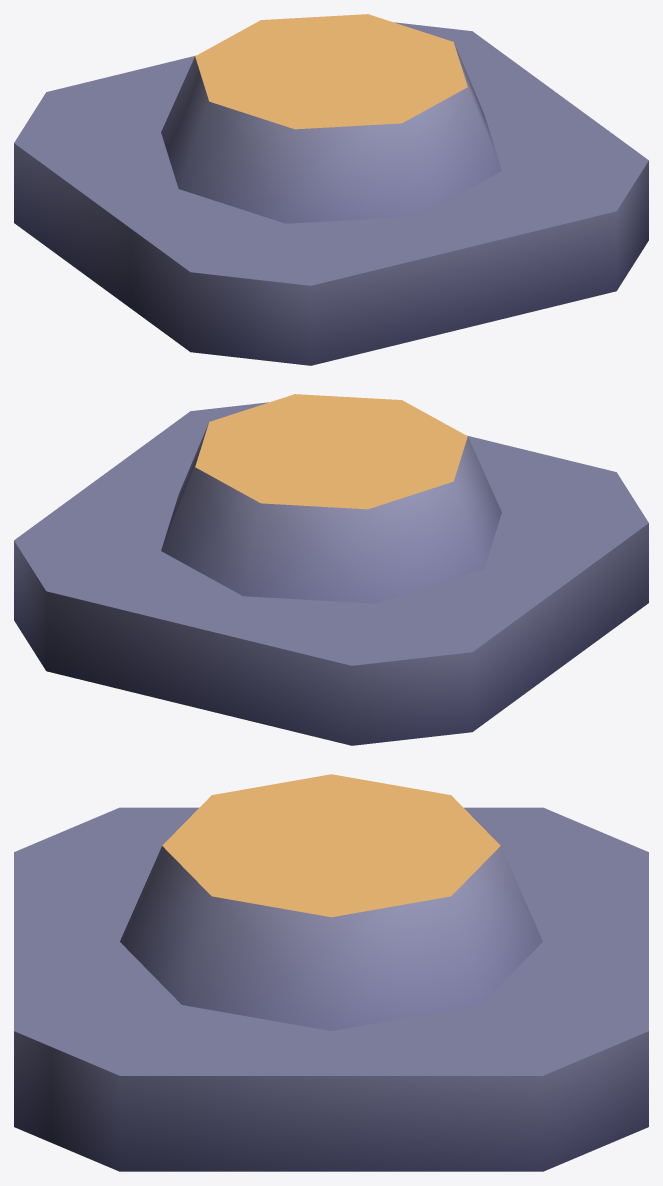
File: kenney-factory-button-floor-round-small.glb
3 renders of one model, top to bottom at view 1: azimuth 30°, elevation 25°; view 2: azimuth 150°, elevation 25°; view 3: azimuth 270°, elevation 25°, orthographic. The views are drawn at different scales.
Parts seen in each view (by area): view 1: button-floor-round-small, button; view 2: button-floor-round-small, button; view 3: button-floor-round-small, button.
Boxes of the visible parts, left/top/right/bottom form: button-floor-round-small: left=14, top=22, right=648, bottom=365; button: left=161, top=14, right=501, bottom=223; button-floor-round-small: left=14, top=402, right=648, bottom=745; button: left=161, top=394, right=501, bottom=603; button-floor-round-small: left=14, top=807, right=648, bottom=1171; button: left=120, top=774, right=542, bottom=1030.
Bounding box in the file's own units: 0.45 × 0.15 × 0.45.
1 material, 1 textured.
